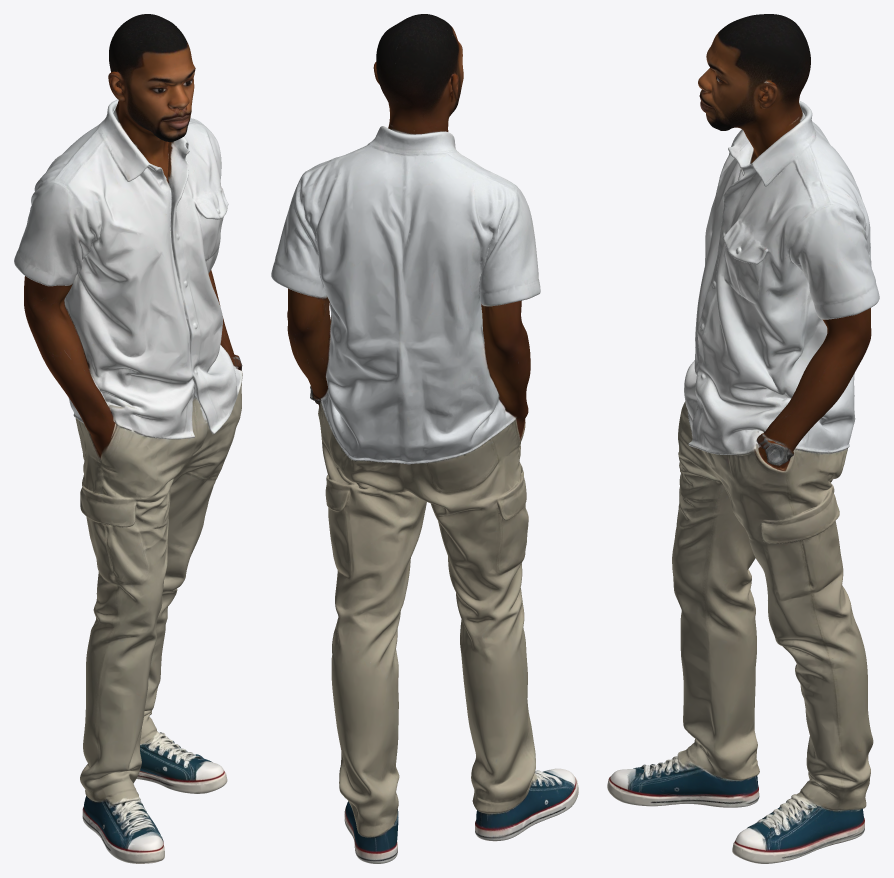
The model's file is bermuda-npc-male.glb.
3 renders of one model, left to right at view 1: azimuth 30°, elevation 25°; view 2: azimuth 150°, elevation 25°; view 3: azimuth 270°, elevation 25°, orthographic. The views are drawn at different scales.
Bounding box in the file's own units: 0.5639 × 1.9 × 0.5771.
Materials: 1 (1 with a texture image).
